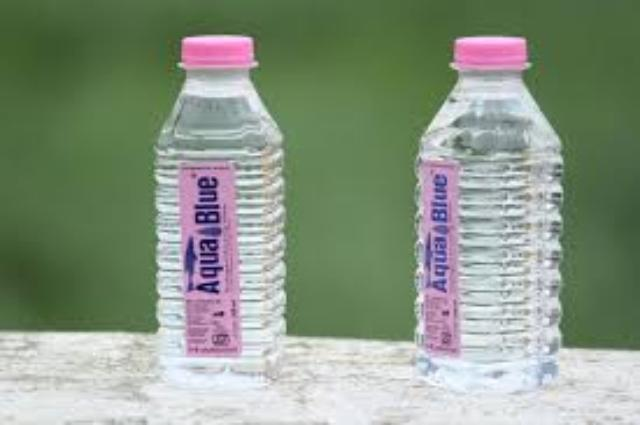plastic: (414, 35, 559, 386), (154, 33, 282, 377)
